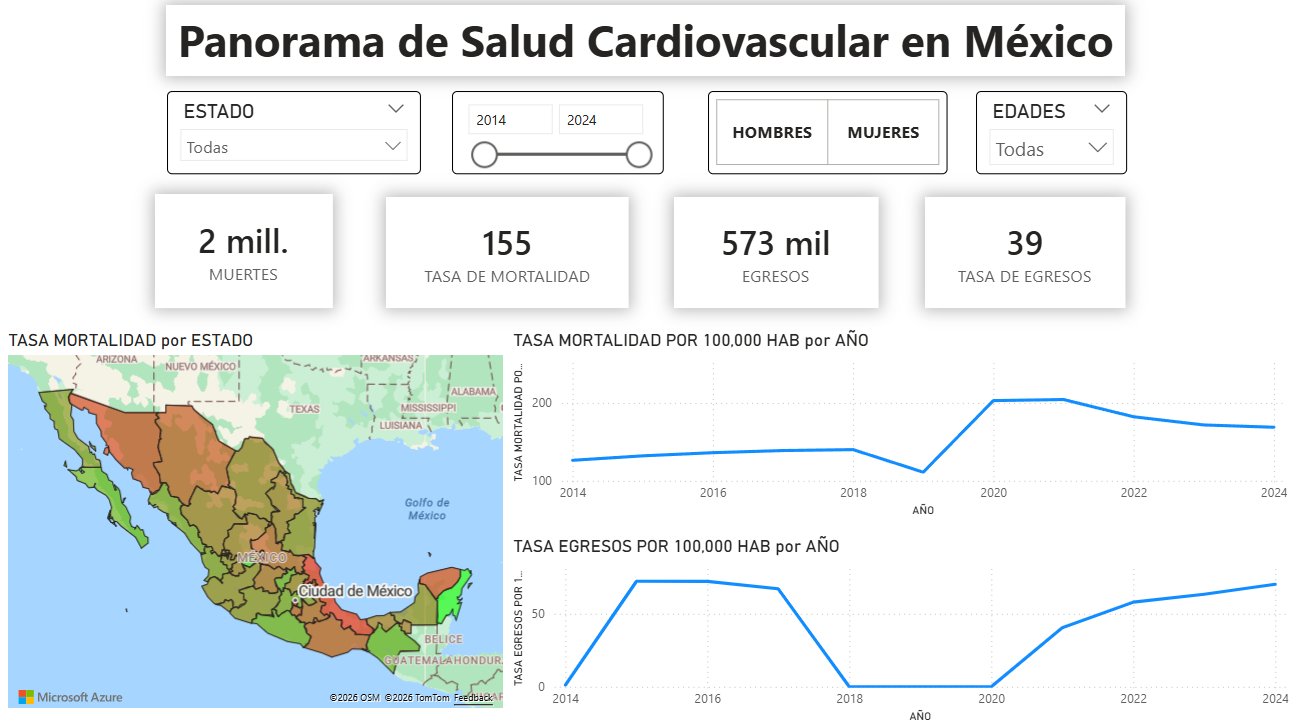

What the dashboard file says about the page in this screenshot:
{"tool":"powerbi","page":{"name":"Página 1","canvas":[1280,720],"ordinal":0},"visuals":[{"type":"lineChart","fields":{"Category":["fact_dataset_parquet_file.ANIO_ANALISIS"],"Y":["fact_dataset_parquet_file.TASA_MORTALIDAD_DINAMICA"]},"box":[506.3,333.4,763,186.6],"z":0},{"type":"slicer","fields":{"Values":["fact_dataset_parquet_file.ESTADO"]},"box":[175.4,101,247,81],"z":1000},{"type":"slicer","fields":{"Values":["fact_dataset_parquet_file.ANIO_ANALISIS"]},"box":[452.6,101,205.8,81],"z":2000},{"type":"advancedSlicerVisual","fields":{"Values":["fact_dataset_parquet_file.SEXO"]},"box":[700.9,101,233.3,81],"z":3000},{"type":"slicer","fields":{"Values":["fact_dataset_parquet_file.RANGO_EDAD"]},"box":[961.6,101,146.8,81],"z":4000},{"type":"cardVisual","fields":{"Data":["Sum(fact_dataset_parquet_file.TOTAL_MUERTES)"]},"box":[163,201.4,172.9,111.1],"z":5000},{"type":"cardVisual","fields":{"Data":["Sum(fact_dataset_parquet_file.TOTAL_EGRESOS)"]},"box":[668,204.2,199,108.4],"z":6000},{"type":"cardVisual","title":"Por cada 100,000 Habitantes","fields":{"Data":["fact_dataset_parquet_file.TASA_MORTALIDAD_DINAMICA"]},"box":[388.3,204.5,236,108.4],"z":7000},{"type":"cardVisual","fields":{"Data":["fact_dataset_parquet_file.TASA_EGRESOS_DINAMICA"]},"box":[912.3,204.2,194.9,108.4],"z":8000},{"type":"azureMap","title":"INFORMACIÓN GENERAL POR ESTADO","fields":{"Category":["fact_dataset_parquet_file.ESTADO"]},"box":[15.1,333.4,491.3,373.2],"z":9000},{"type":"textbox","box":[174.3,17.3,933.1,68.6],"z":10000},{"type":"lineChart","fields":{"Category":["fact_dataset_parquet_file.ANIO_ANALISIS"],"Y":["fact_dataset_parquet_file.TASA_EGRESOS_DINAMICA"]},"box":[506.3,533.8,764.3,186.6],"z":11000}]}

Visuals, with their boxes in screenshot pixels (x1, y1, x2, y2), scaled from the page's 1280x720 canvas onto the 1296x724 screenshot:
lineChart - fact_dataset_parquet_file.ANIO_ANALISIS x fact_dataset_parquet_file.TASA_MORTALIDAD_DINAMICA: [x1=513, y1=335, x2=1285, y2=523]
slicer - fact_dataset_parquet_file.ESTADO: [x1=178, y1=102, x2=428, y2=183]
slicer - fact_dataset_parquet_file.ANIO_ANALISIS: [x1=458, y1=102, x2=667, y2=183]
advancedSlicerVisual - fact_dataset_parquet_file.SEXO: [x1=710, y1=102, x2=946, y2=183]
slicer - fact_dataset_parquet_file.RANGO_EDAD: [x1=974, y1=102, x2=1122, y2=183]
cardVisual - Sum(fact_dataset_parquet_file.TOTAL_MUERTES): [x1=165, y1=203, x2=340, y2=314]
cardVisual - Sum(fact_dataset_parquet_file.TOTAL_EGRESOS): [x1=676, y1=205, x2=878, y2=314]
"Por cada 100,000 Habitantes" cardVisual: [x1=393, y1=206, x2=632, y2=315]
cardVisual - fact_dataset_parquet_file.TASA_EGRESOS_DINAMICA: [x1=924, y1=205, x2=1121, y2=314]
"INFORMACIÓN GENERAL POR ESTADO" azureMap: [x1=15, y1=335, x2=513, y2=711]
textbox: [x1=176, y1=17, x2=1121, y2=86]
lineChart - fact_dataset_parquet_file.ANIO_ANALISIS x fact_dataset_parquet_file.TASA_EGRESOS_DINAMICA: [x1=513, y1=537, x2=1286, y2=723]
